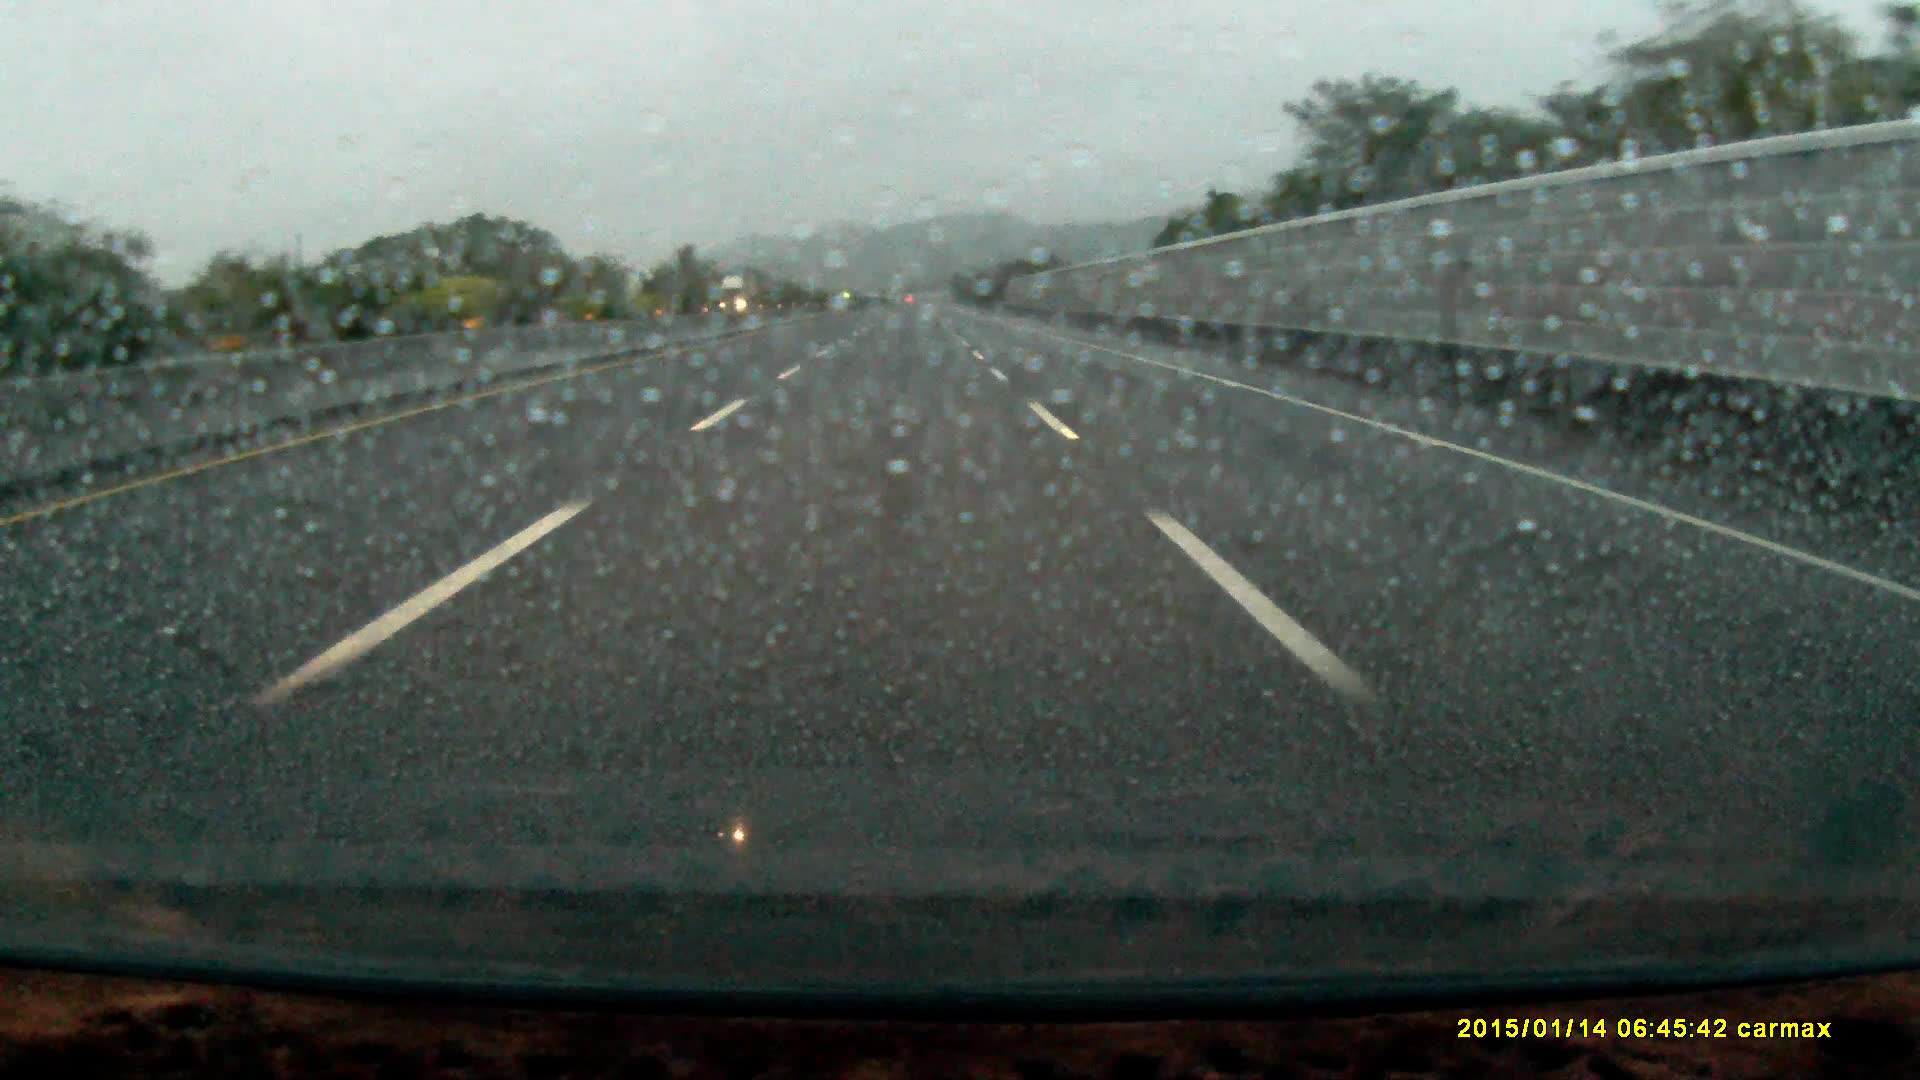vehicle: (716, 277, 758, 316)
